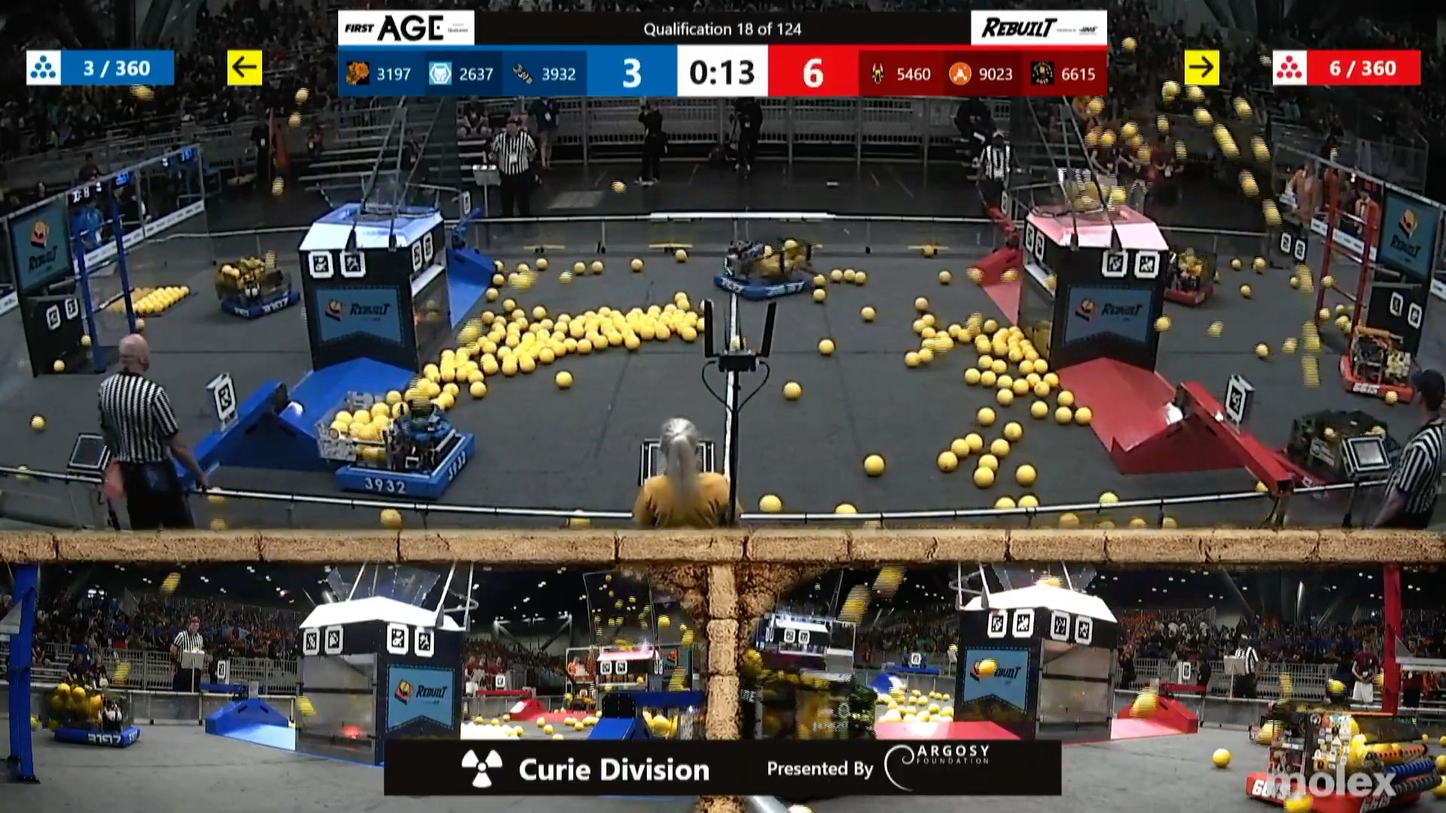bumpers: (1238, 762, 1435, 813), (330, 434, 481, 500), (1336, 357, 1423, 407), (51, 714, 155, 752), (707, 268, 822, 300), (214, 285, 312, 321), (1149, 280, 1218, 306)
